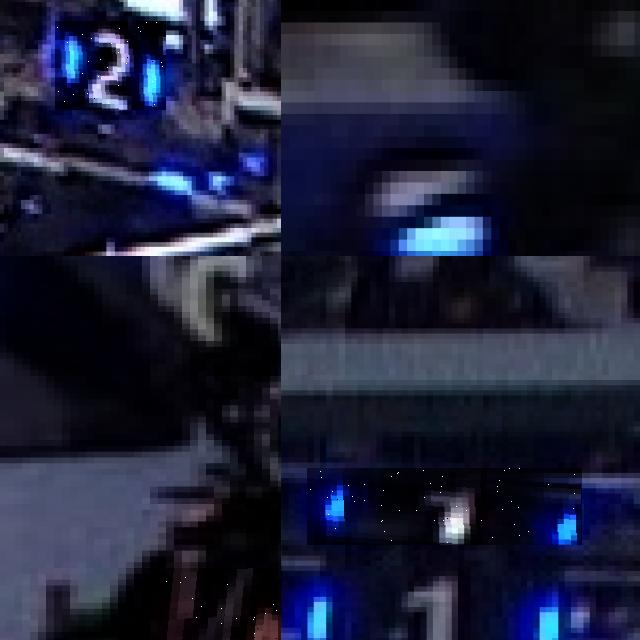B1: (288, 560, 564, 640), (307, 468, 584, 545)
B2: (55, 21, 166, 110)
R4: (166, 567, 278, 640)
